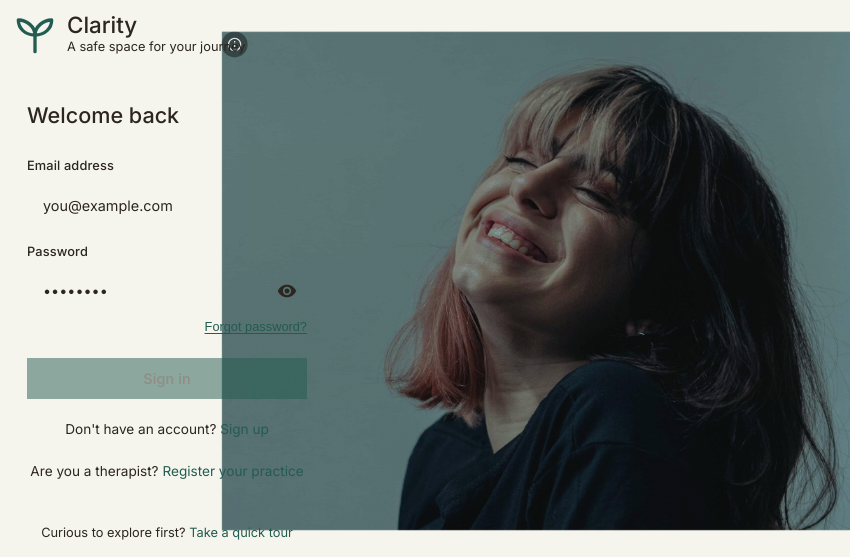
it: LoginPage › keeps the submit button disabled until both fields are filled
Check: the button "Sign in" is disabled, box [27, 358, 307, 399]
Type "a@b.com" into the field labelled "Email address".
click(167, 205); type("a@b.com")  # box [27, 185, 307, 226]
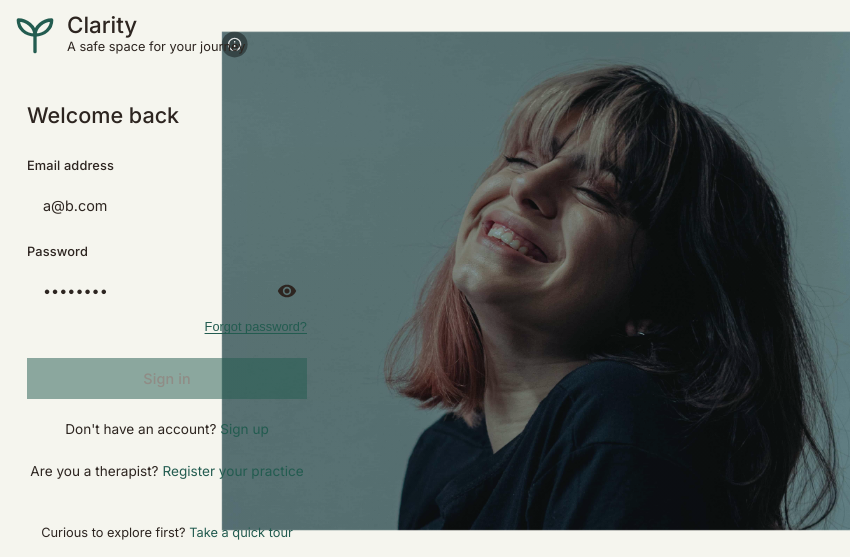
Check: the button "Sign in" is disabled, box [27, 358, 307, 399]
Type "pw" into the password field labelled "Password".
click(167, 291); type("pw")  # box [27, 270, 307, 311]
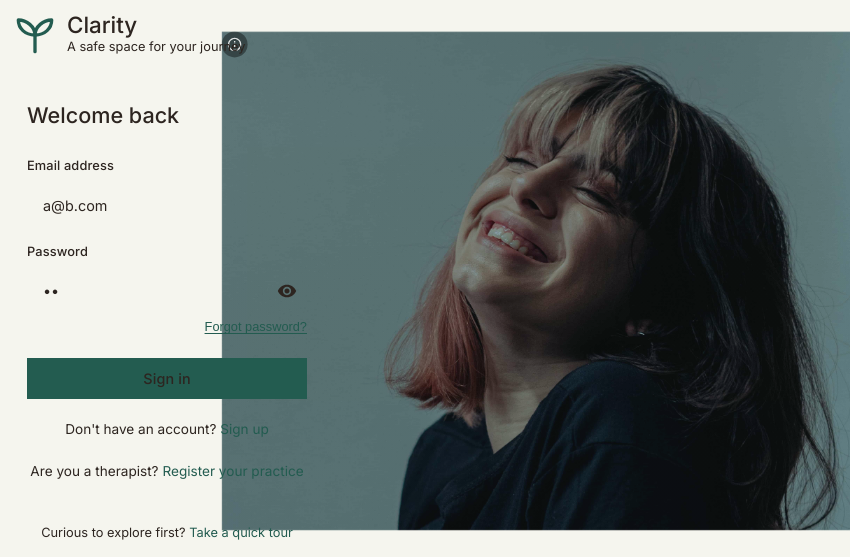
Check: the button "Sign in" is enabled, box [27, 358, 307, 399]
